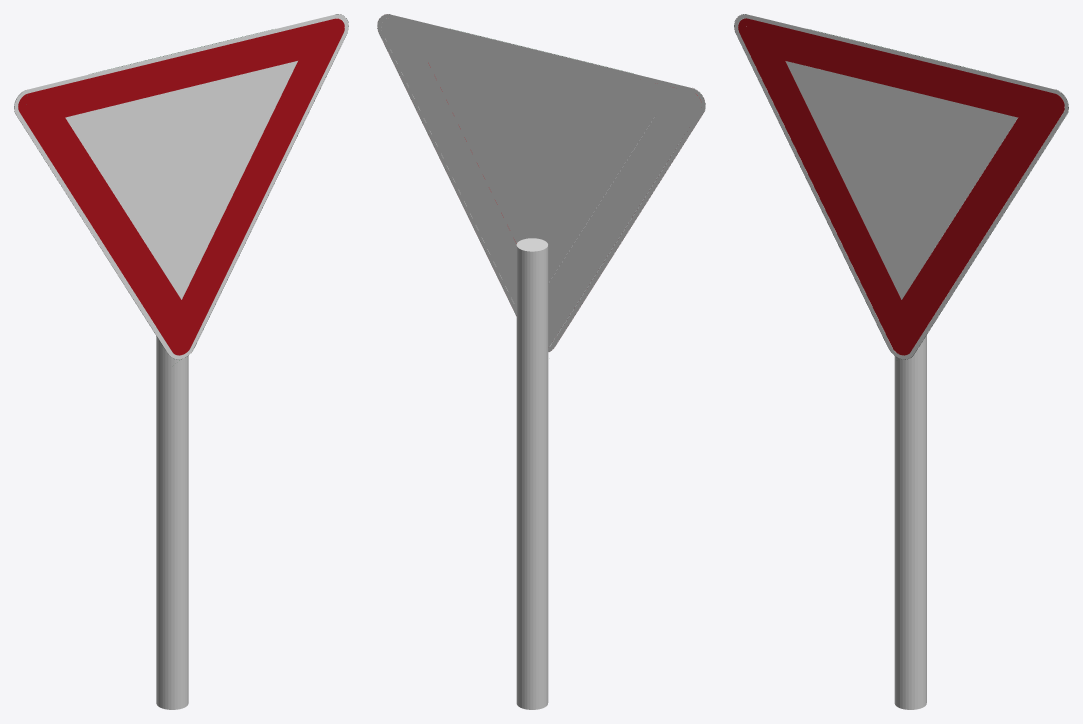
The model's file is Give_way.dae.
The picture shows the model from 3 angles, left to right: view 1: azimuth 30°, elevation 25°; view 2: azimuth 150°, elevation 25°; view 3: azimuth 330°, elevation 25°; orthographic projection.
Parts seen in each view (by area): view 1: path1488, Cylinder; view 2: path1488, Cylinder; view 3: path1488, Cylinder.
Boxes of the visible parts, bbox=[...] form: path1488: bbox=[14, 14, 348, 360]; Cylinder: bbox=[156, 336, 188, 709]; path1488: bbox=[377, 14, 705, 351]; Cylinder: bbox=[516, 238, 548, 709]; path1488: bbox=[734, 14, 1068, 359]; Cylinder: bbox=[894, 335, 926, 709].
Bounding box in the file's own units: 0.15 × 0.0134 × 0.2818.
